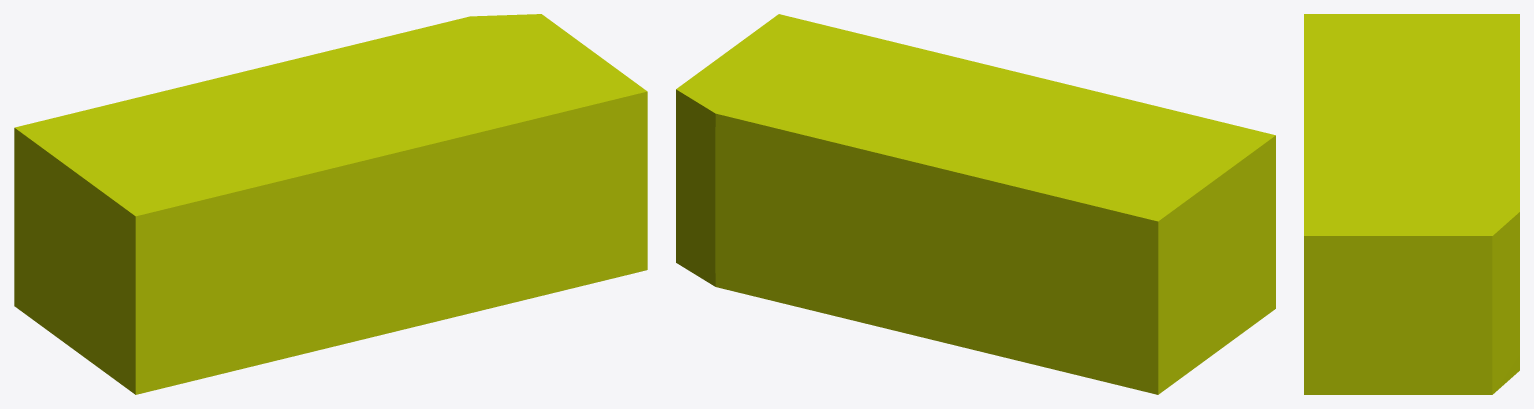
Rendered from simple_example_hole_part_39.obj.
3 renders of one model, left to right at view 1: azimuth 30°, elevation 25°; view 2: azimuth 150°, elevation 25°; view 3: azimuth 270°, elevation 25°, orthographic. The views are drawn at different scales.
Bounding box in the file's own units: 30 × 10 × 12.31.
